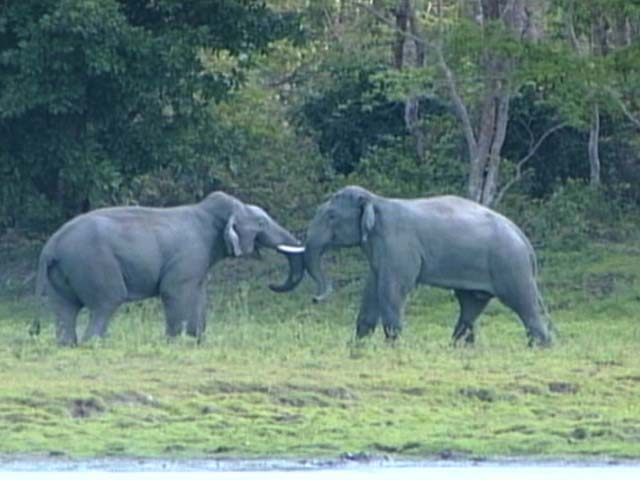elephant: (305, 160, 571, 358), (29, 183, 305, 351)
